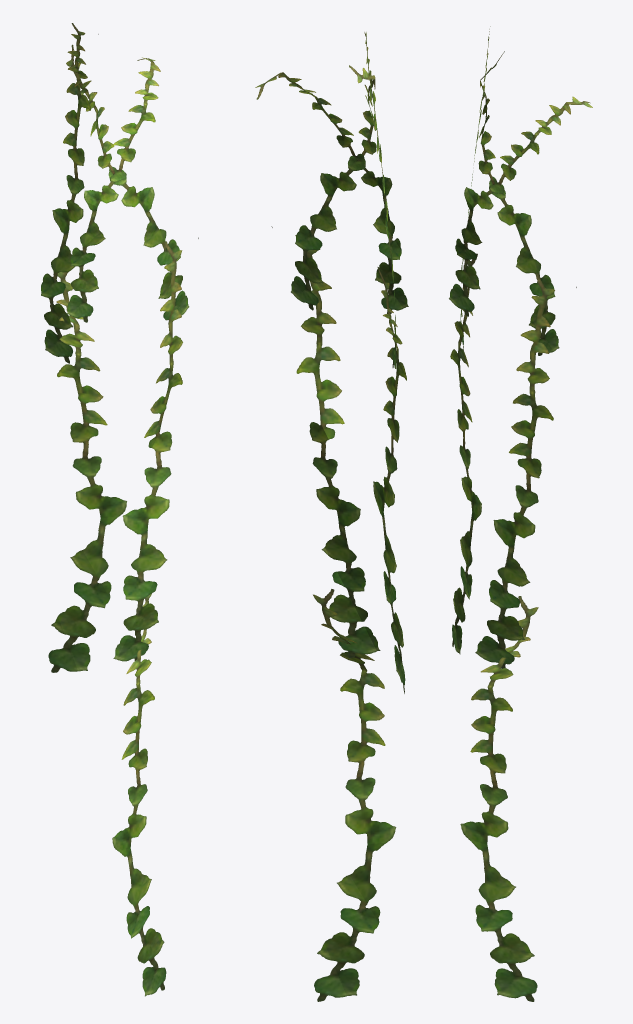
The model's file is S_Tree_Green034_1.FBX.
3 views of the same model, side by side, from view 1: azimuth 30°, elevation 25°; view 2: azimuth 150°, elevation 25°; view 3: azimuth 330°, elevation 25° (orthographic). The views are drawn at different scales.
Parts seen in each view (by area): view 1: S_Tree_Green034_1; view 2: S_Tree_Green034_1; view 3: S_Tree_Green034_1.
Boxes of the visible parts, x1=… form: S_Tree_Green034_1: x1=41, y1=23, x2=198, y2=996; S_Tree_Green034_1: x1=255, y1=32, x2=408, y2=1001; S_Tree_Green034_1: x1=449, y1=26, x2=592, y2=1001.
Bounding box in the file's own units: 539 × 356 × 3054.
